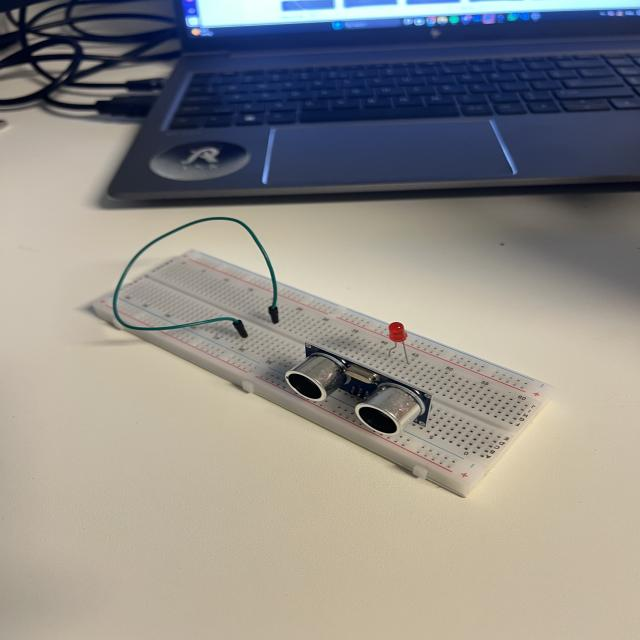BreadBoard: (87, 247, 550, 478)
REDLed: (376, 310, 423, 364)
UltrasoneSensor: (240, 332, 438, 446)
